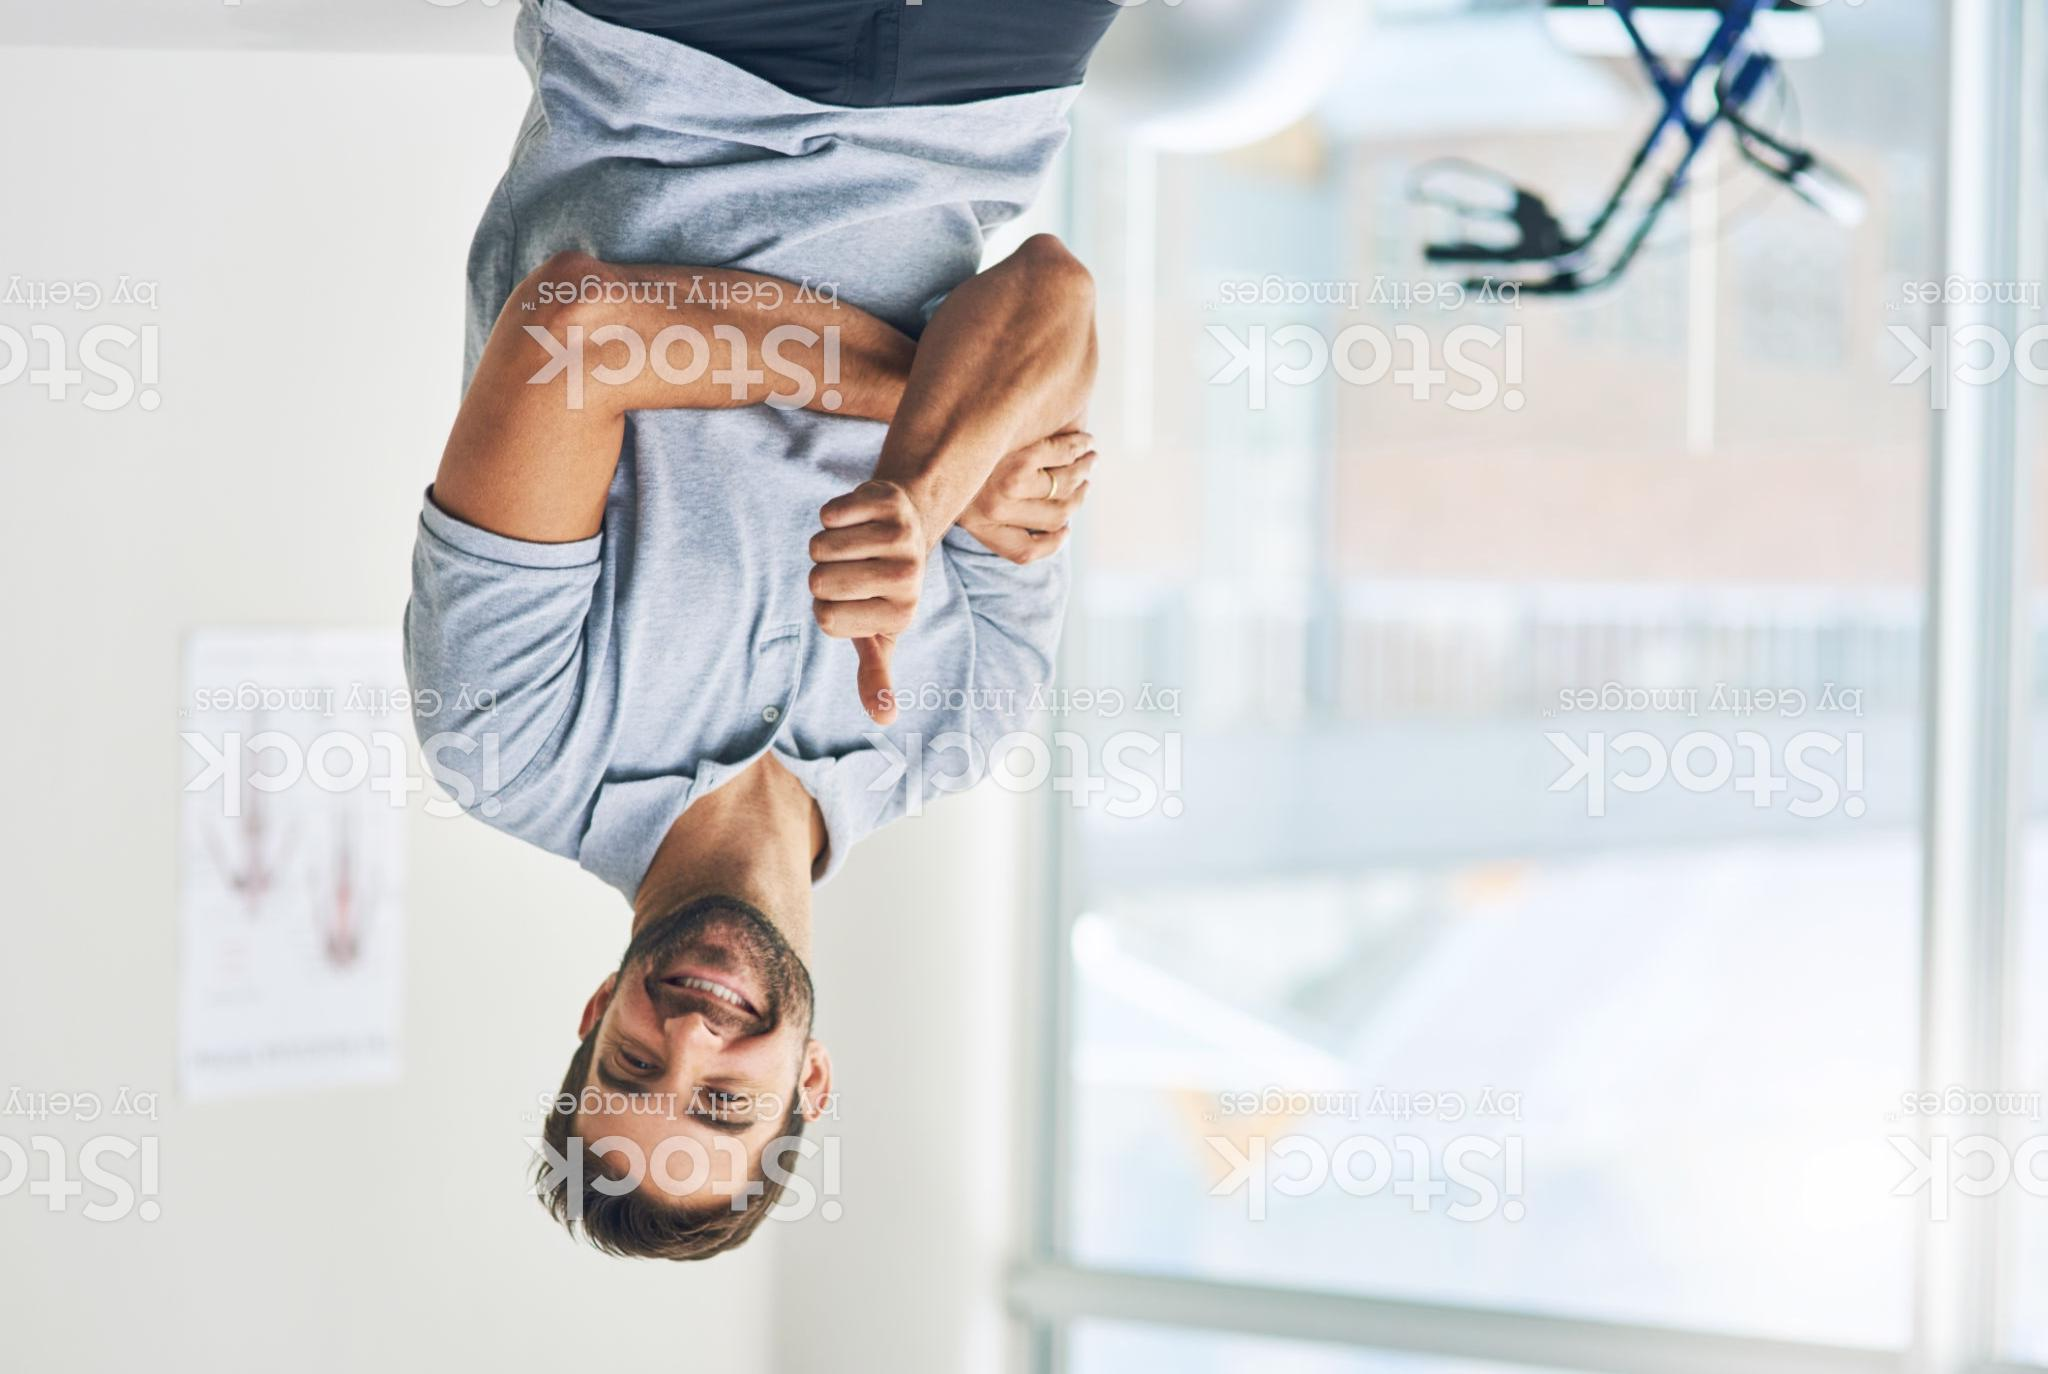thumbsdown: (805, 475, 929, 730)
